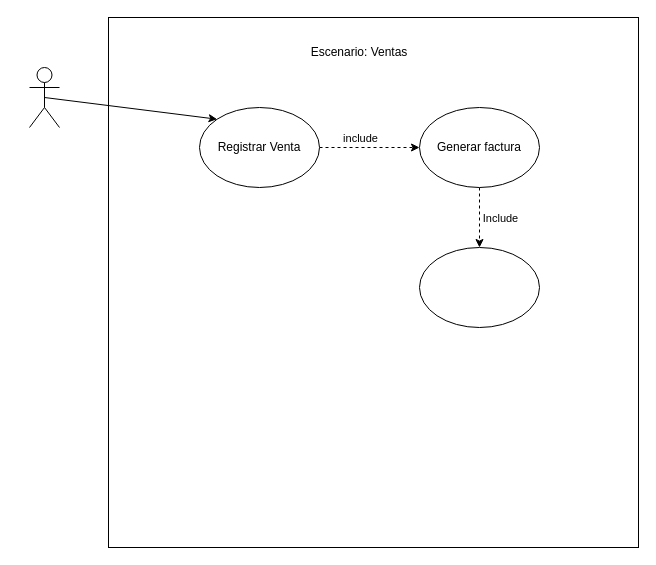
The diagram is 656 pixels wide and 565 high, and some of its shapes have lost their labels. The centre of each missing label's shape, as x and y in pixels:
"Actualizar stock" goes at (479,287).
"Empleado" goes at (44,97).
